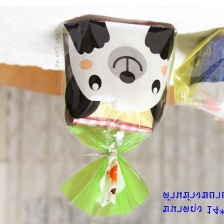snack: (50, 12, 185, 224)
